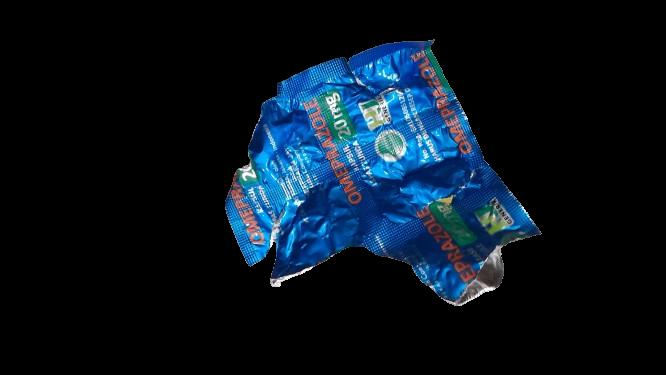Plastik: (222, 25, 547, 313)
